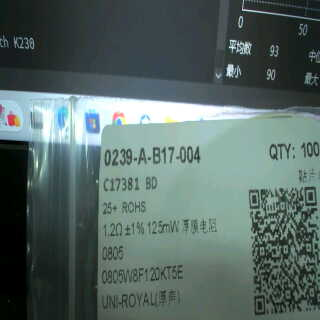1.2R: (102, 223, 125, 263)
